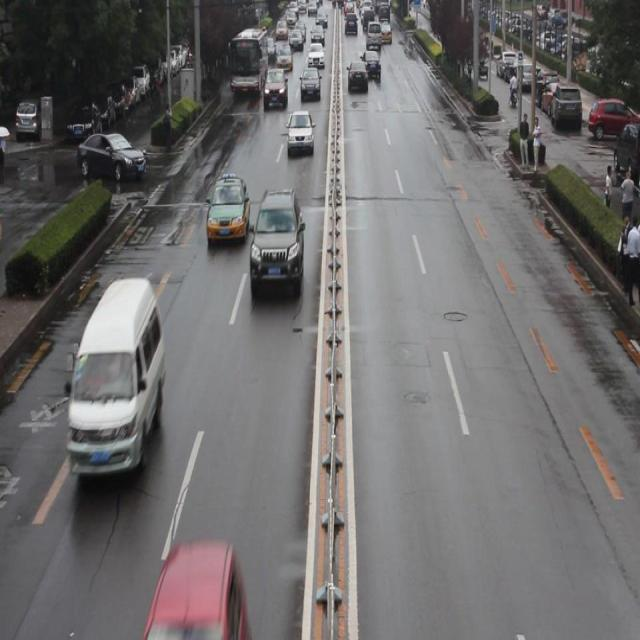car: (248, 188, 304, 292), (76, 130, 145, 183), (207, 172, 248, 242), (286, 111, 314, 152)
truck: (65, 279, 166, 477)
